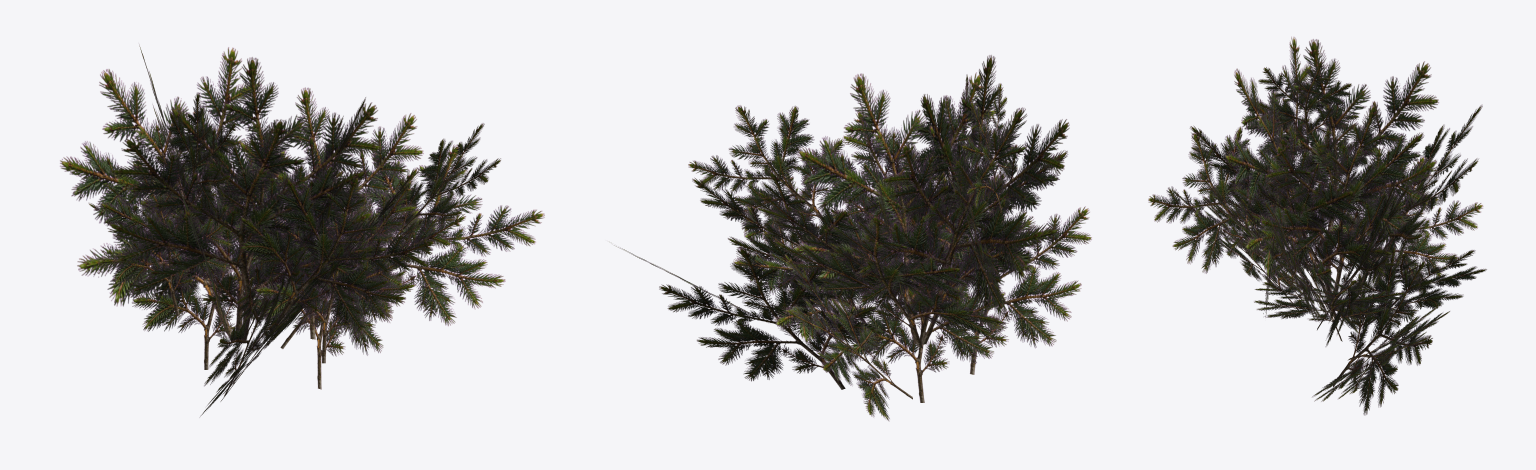
The model's file is bush3.glb.
The picture shows the model from 3 angles, left to right: view 1: azimuth 30°, elevation 25°; view 2: azimuth 150°, elevation 25°; view 3: azimuth 270°, elevation 25°; orthographic projection. The views are drawn at different scales.
Visible parts, largest first — view 1: Bush28_High_001; view 2: Bush28_High_001; view 3: Bush28_High_001.
Boxes of the visible parts, x1=… form: Bush28_High_001: x1=60, y1=44, x2=544, y2=416; Bush28_High_001: x1=614, y1=55, x2=1091, y2=421; Bush28_High_001: x1=1148, y1=37, x2=1486, y2=415.
Bounding box in the file's own units: 2.79 × 2.14 × 2.29.
Materials: 1 (1 with a texture image).
